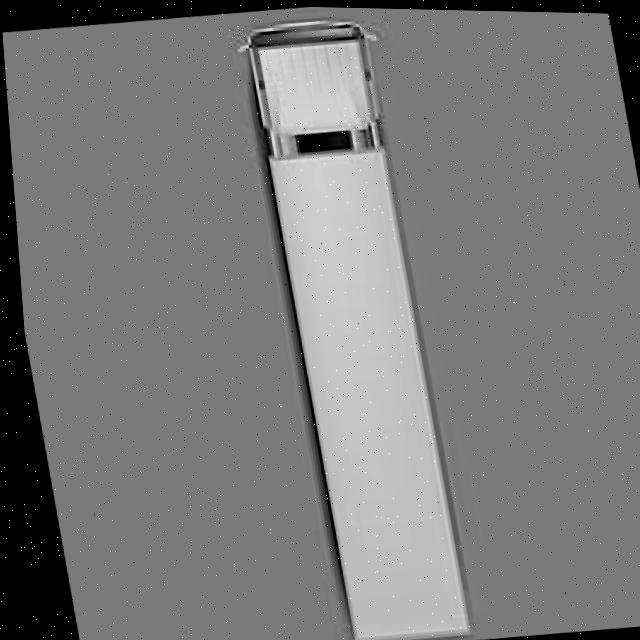truck: (227, 8, 467, 640)
